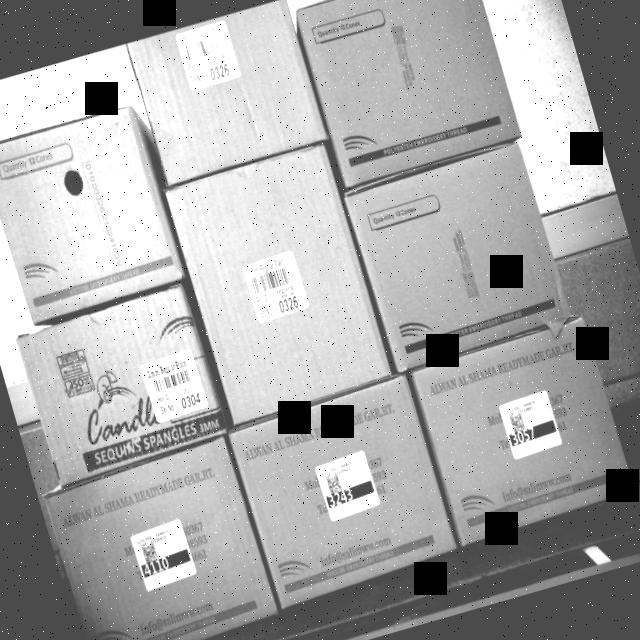box: (163, 142, 390, 422), (412, 316, 640, 546), (347, 145, 572, 371), (226, 376, 456, 596), (37, 440, 280, 640), (12, 286, 229, 486), (293, 0, 524, 187), (0, 102, 185, 324), (124, 0, 327, 184)
